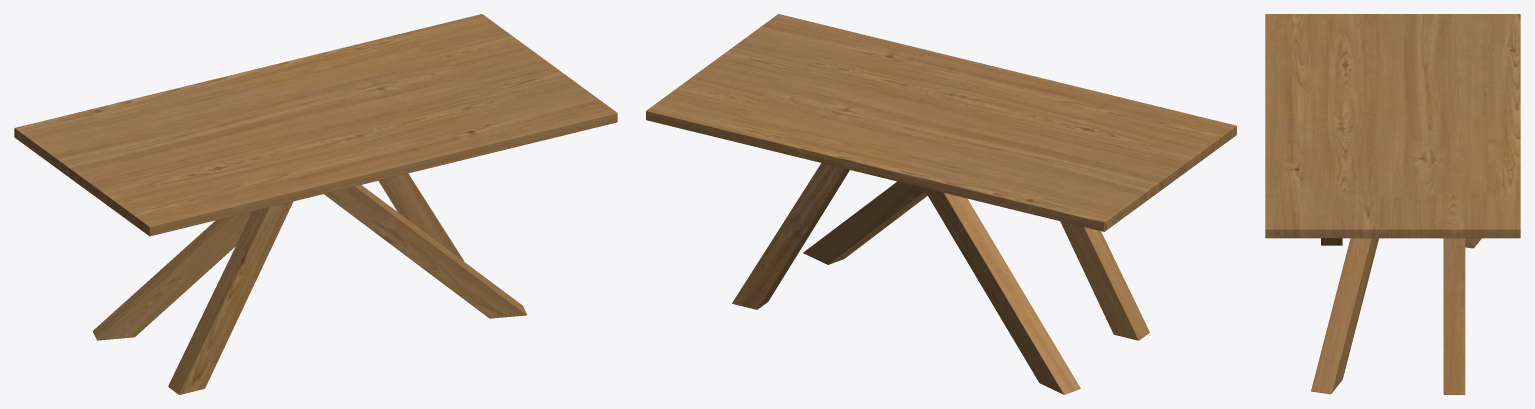
File: B07K7Z6YJT.glb
3 renders of one model, left to right at view 1: azimuth 30°, elevation 25°; view 2: azimuth 150°, elevation 25°; view 3: azimuth 270°, elevation 25°, orthographic. The views are drawn at different scales.
Visible parts, largest first — view 1: RootNode; view 2: RootNode; view 3: RootNode.
Boxes of the visible parts, x1=… form: RootNode: x1=14, y1=14, x2=617, y2=394; RootNode: x1=646, y1=14, x2=1236, y2=394; RootNode: x1=1265, y1=14, x2=1520, y2=394.
Bounding box in the file's own units: 1.8 × 0.7503 × 0.9006.
Materials: 1 (1 with a texture image).
